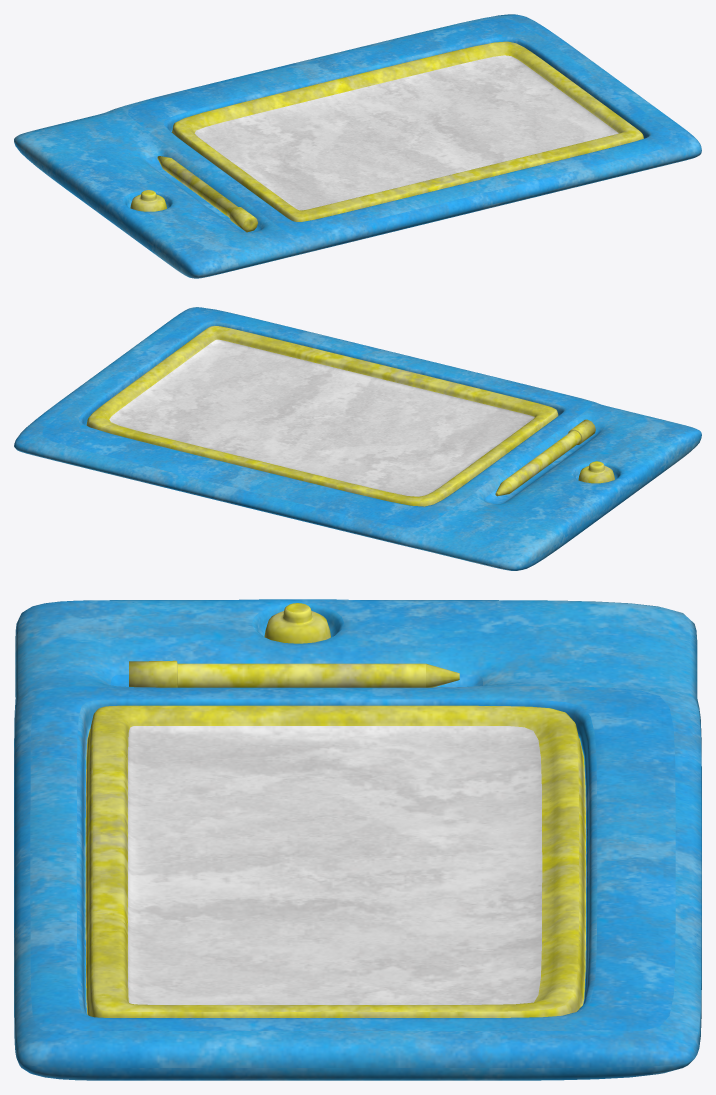
The model's file is Drawing Board.fbx.
3 renders of one model, top to bottom at view 1: azimuth 30°, elevation 25°; view 2: azimuth 150°, elevation 25°; view 3: azimuth 270°, elevation 25°, orthographic. The views are drawn at different scales.
Parts seen in each view (by area): view 1: Cube.004; view 2: Cube.004; view 3: Cube.004.
Part boxes in pixels (bbox=[...]): Cube.004: bbox=[14, 14, 701, 278]; Cube.004: bbox=[14, 307, 701, 570]; Cube.004: bbox=[14, 599, 701, 1080].
Bounding box in the file's own units: 109 × 6.18 × 69.81.
Materials: 1 (1 with a texture image).
